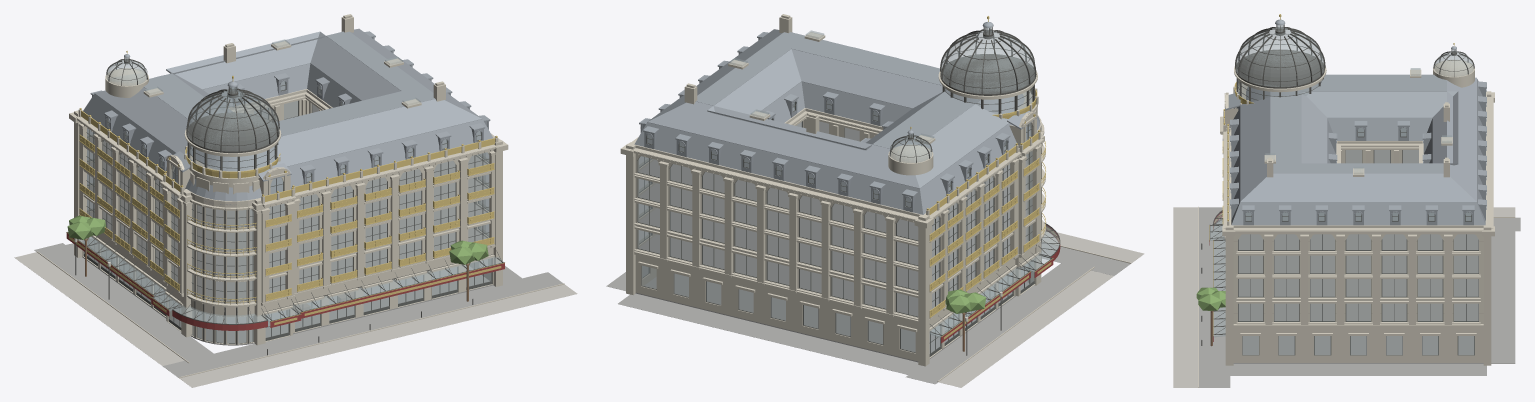
Rendered from clay-grand-magasin-clay-v002.glb.
The picture shows the model from 3 angles, left to right: view 1: azimuth 30°, elevation 25°; view 2: azimuth 150°, elevation 25°; view 3: azimuth 270°, elevation 25°; orthographic projection. The views are drawn at different scales.
Parts seen in each view (by area): view 1: CLAY_STONE, CLAY_ZINC, CLAY_GLASS, CLAY_FOUNDATION, CLAY_GILT, CLAY_FLOOR, CLAY_HARDWARE, CLAY_CONCRETE, CLAY_TRIM, CLAY_WALL, CLAY_SIGNBAND, CLAY_PLANTING; view 2: CLAY_STONE, CLAY_ZINC, CLAY_GLASS, CLAY_FLOOR, CLAY_FOUNDATION, CLAY_TRIM, CLAY_HARDWARE, CLAY_WALL, CLAY_GILT, CLAY_CONCRETE, CLAY_PLANTING, CLAY_SIGNBAND; view 3: CLAY_ZINC, CLAY_STONE, CLAY_GLASS, CLAY_FOUNDATION, CLAY_FLOOR, CLAY_WALL, CLAY_HARDWARE, CLAY_CONCRETE, CLAY_TRIM, CLAY_PLANTING, CLAY_GILT.
Part boxes in pixels (box(x1,y1,x2,y2)): CLAY_STONE: box(36, 16, 564, 378); CLAY_ZINC: box(83, 28, 493, 205); CLAY_GLASS: box(79, 39, 503, 343); CLAY_FOUNDATION: box(34, 239, 563, 377); CLAY_GILT: box(66, 51, 504, 325); CLAY_FLOOR: box(88, 101, 486, 300); CLAY_HARDWARE: box(67, 57, 504, 355); CLAY_CONCRETE: box(14, 252, 577, 387); CLAY_TRIM: box(83, 82, 492, 343); CLAY_WALL: box(87, 89, 492, 279); CLAY_SIGNBAND: box(66, 233, 504, 330); CLAY_PLANTING: box(67, 215, 488, 264); CLAY_STONE: box(620, 16, 1131, 381); CLAY_ZINC: box(634, 22, 1041, 214); CLAY_GLASS: box(638, 27, 1059, 353); CLAY_FLOOR: box(638, 121, 1028, 316); CLAY_FOUNDATION: box(606, 242, 1130, 384); CLAY_TRIM: box(637, 101, 1034, 356); CLAY_HARDWARE: box(889, 27, 1060, 355); CLAY_WALL: box(634, 108, 1020, 317); CLAY_GILT: box(910, 16, 1059, 339); CLAY_CONCRETE: box(938, 231, 1144, 387); CLAY_PLANTING: box(945, 289, 986, 313); CLAY_SIGNBAND: box(941, 225, 1060, 343); CLAY_ZINC: box(1225, 19, 1486, 225); CLAY_STONE: box(1198, 59, 1515, 387); CLAY_GLASS: box(1210, 25, 1478, 354); CLAY_FOUNDATION: box(1199, 207, 1520, 387); CLAY_FLOOR: box(1238, 150, 1478, 320); CLAY_WALL: box(1226, 93, 1486, 323); CLAY_HARDWARE: box(1201, 24, 1474, 345); CLAY_CONCRETE: box(1173, 207, 1515, 387); CLAY_TRIM: box(1238, 127, 1478, 355); CLAY_PLANTING: box(1196, 287, 1225, 310); CLAY_GILT: box(1209, 14, 1454, 335).
Bounding box in the file's own units: 60 × 36.9 × 48.75.
